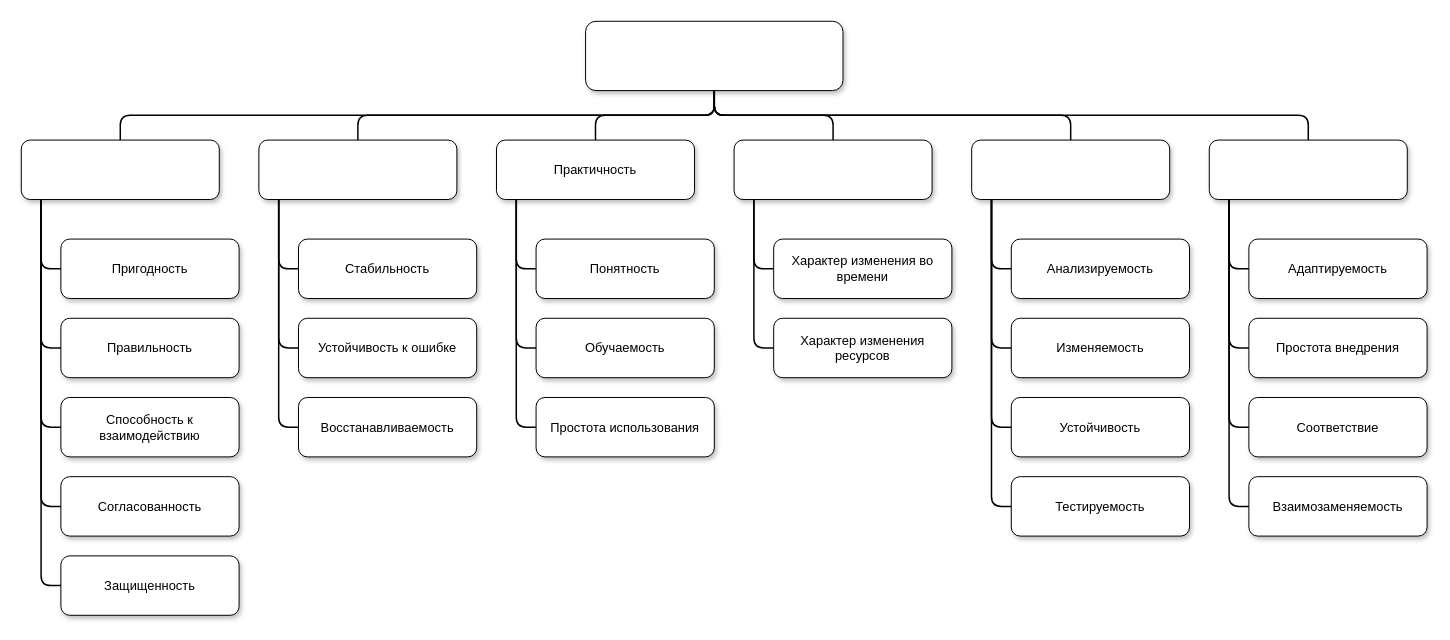
Some shapes in this 1450 by 640 pixel diagram are drawn without their labels. The centre of each missing label's shape, as x and y in pixels:
Качество программного обеспечения: pixel 715 57
Мобильность: pixel 1308 170
Надежность: pixel 358 170
Сопровождаемость: pixel 1071 170
Функциональные возможности: pixel 120 170
Эффективность: pixel 833 170
